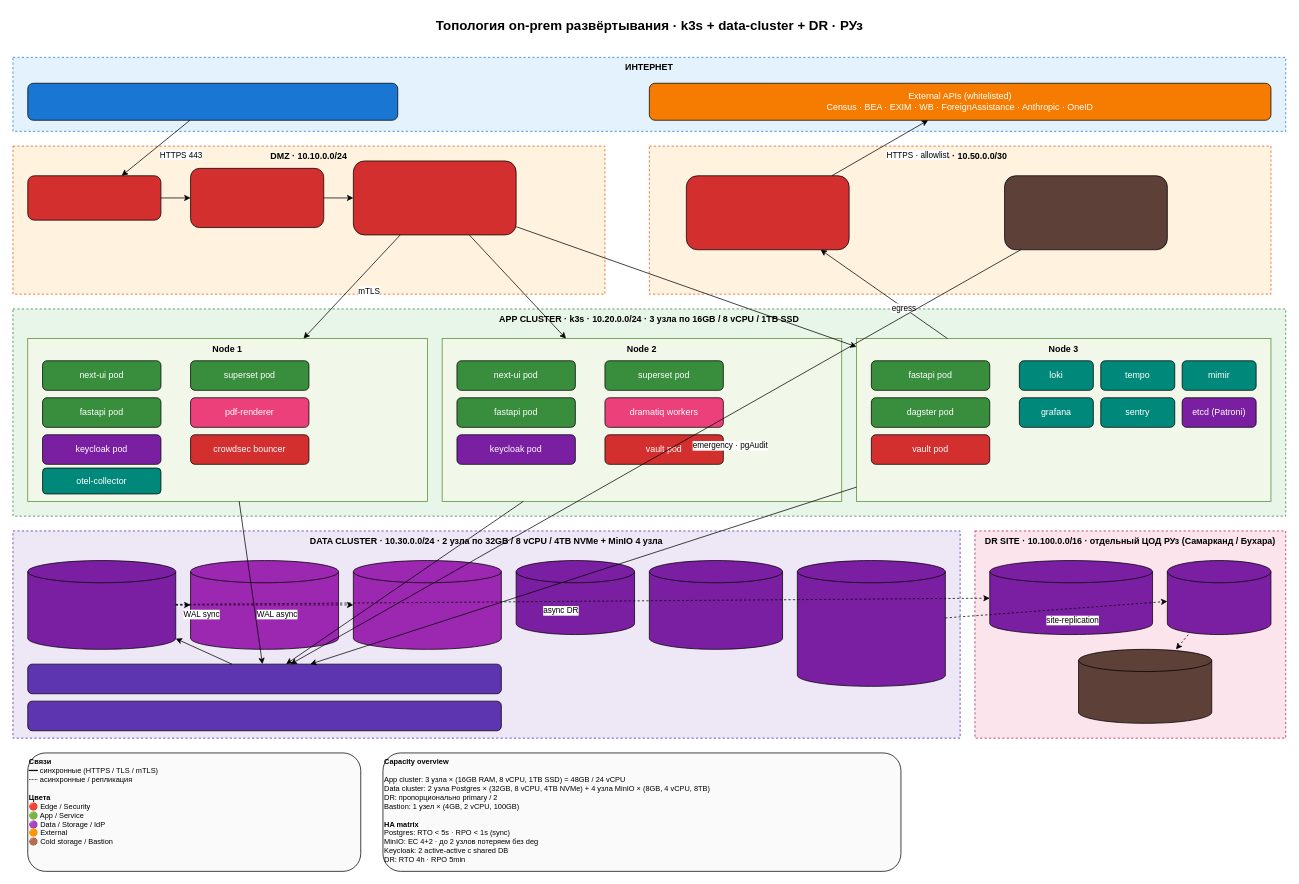
This 1299x884 diagram has some shape labels left out. Each missing label, with the centre of its shape:
"Bastion host DBA / Admin only SSH + Yubikey 2FA pgAudit logs" belongs at [1085,212].
"CrowdSec WAF + ModSecurity rules rate-limit, behavior" belongs at [257,198].
"External LB BGP / VRRP" belongs at [94,197].
"Keycloak DB separate Postgres" belongs at [575,597].
"MinIO Cluster 4 узла EC 4+2 raw-snapshots/ exports/ wal-archive/" belongs at [871,623].
"MinIO DR site-replication" belongs at [1219,597].
"pgBackRest daily full + 6h incremental → MinIO" belongs at [264,715].
"pgBouncer transaction pool" belongs at [264,678].
"Postgres Async Replica для Superset / read-heavy" belongs at [427,604].
"Postgres DR async stream from primary cold standby RPO 5 min · RTO 4h" belongs at [1071,597].
"Postgres Primary Patroni leader DWH (raw/staging/marts/ops)" belongs at [101,604].
"Postgres Sync Replica Patroni standby auto-failover" belongs at [264,604].
"Redis Sentinel 1 primary + 2 replicas 3 sentinels" belongs at [716,604].
"Squid Egress proxy allowlist FQDN access log → Loki default-deny" belongs at [767,212].
"Tape archive LTO-9, weekly air-gap" belongs at [1145,686].
"Traefik HA pair TLS 1.3 termination ACME (Let's Encrypt or Гос УЦ) mTLS upstream" belongs at [434,197].
"Пользователи · Браузеры (Узбекистан + посольства)" belongs at [212,101].
